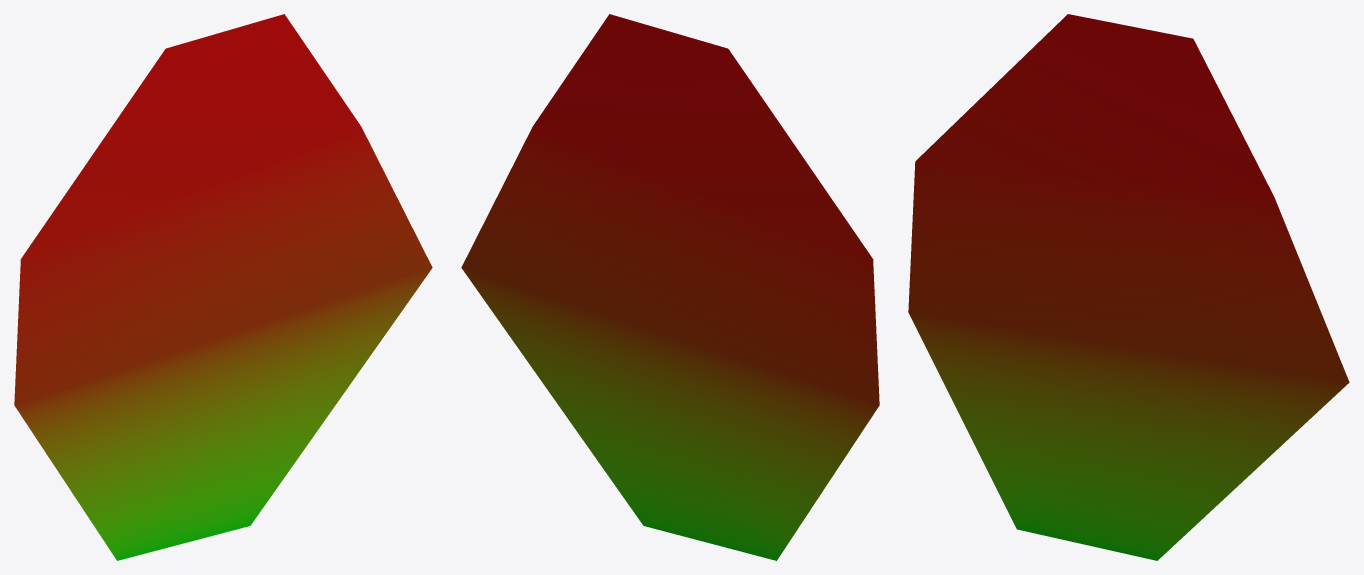
Rendered from Cat Palm_LOD5_Var2_tjejafeia.fbx.
3 views of the same model, side by side, from view 1: azimuth 30°, elevation 25°; view 2: azimuth 150°, elevation 25°; view 3: azimuth 330°, elevation 25° (orthographic). The views are drawn at different scales.
Parts seen in each view (by area): view 1: _d5d5_Var2_LOD5; view 2: _d5d5_Var2_LOD5; view 3: _d5d5_Var2_LOD5.
Boxes of the visible parts, box(x1,y1,x2,y2) form: _d5d5_Var2_LOD5: box(14, 14, 432, 560); _d5d5_Var2_LOD5: box(461, 14, 879, 560); _d5d5_Var2_LOD5: box(908, 14, 1349, 560).
Bounding box in the file's own units: 98.43 × 114 × 1.69e-05.
